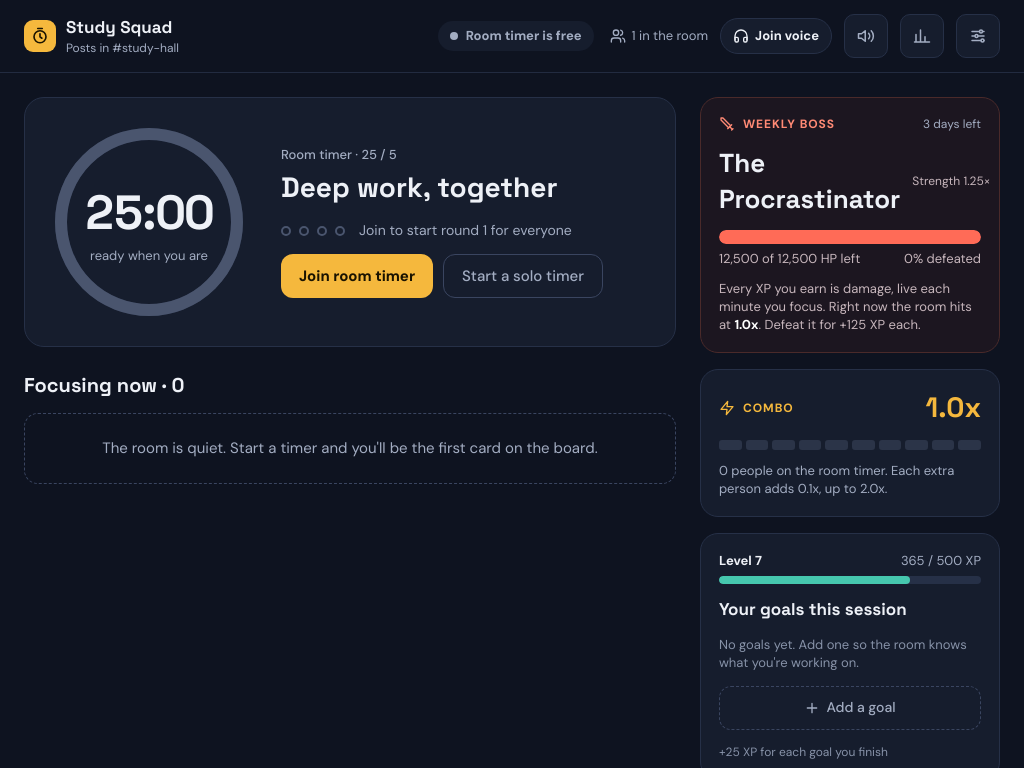
it: Study Squad app › joins the room timer with a goal and shows your card on the board
Check: the text "25:00" is shown, box [85,179,213,246]
Click the button "Join room timer": (357, 276) [281,254,433,298]
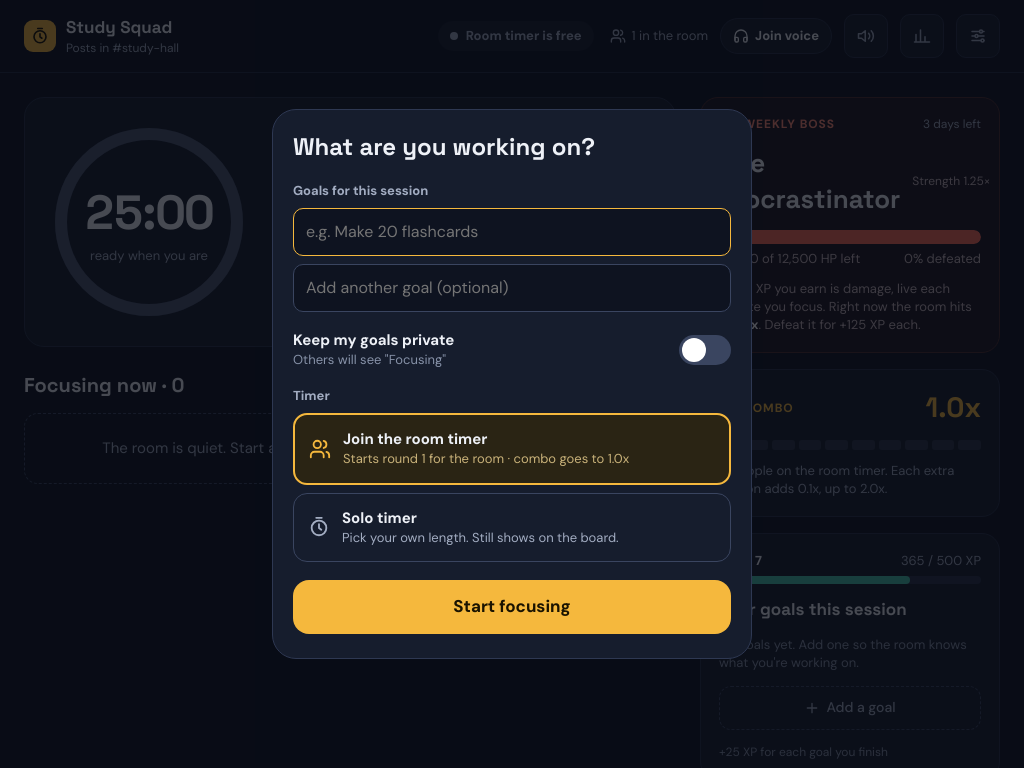
In the field labelled "Goals for this session": (512, 232) [293,208,731,256], type "Make 20 flashcards"
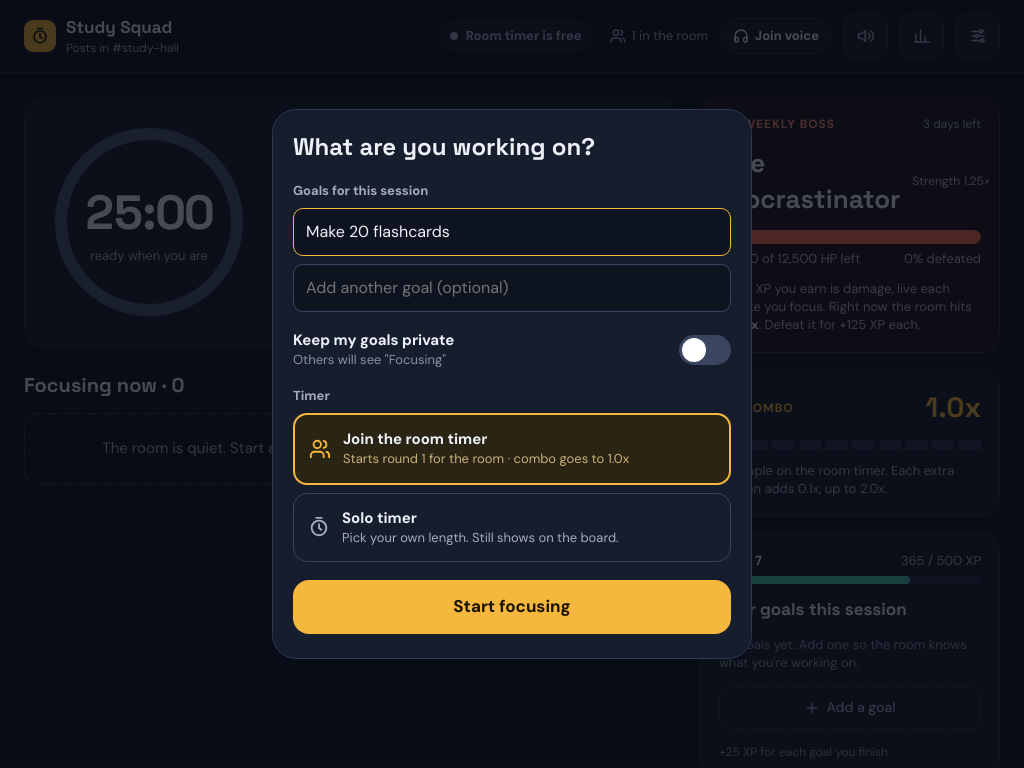
Click the button "Start focusing": (512, 607) [293,580,731,634]
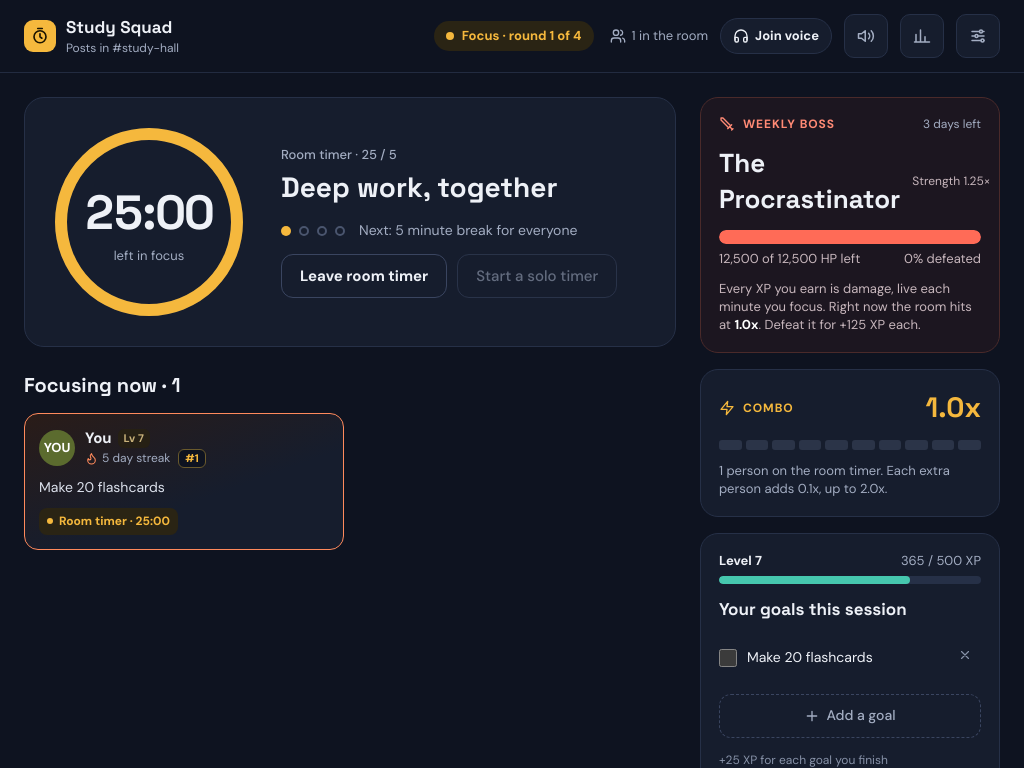
Check: the dialog is gone
Check: the list item with aria-label "You, Room timer" shows "Make 20 flashcards", box [39,478,165,496]
Check: the text "Focus · round 1 of 4" is shown, box [434,21,594,51]
